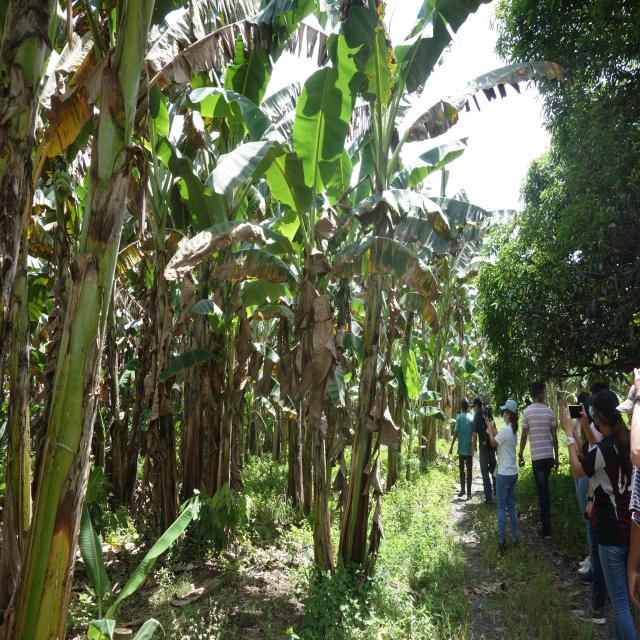Banana-plant: (4, 0, 157, 640), (336, 166, 412, 568), (0, 0, 37, 635), (294, 255, 334, 588), (211, 244, 243, 546)
